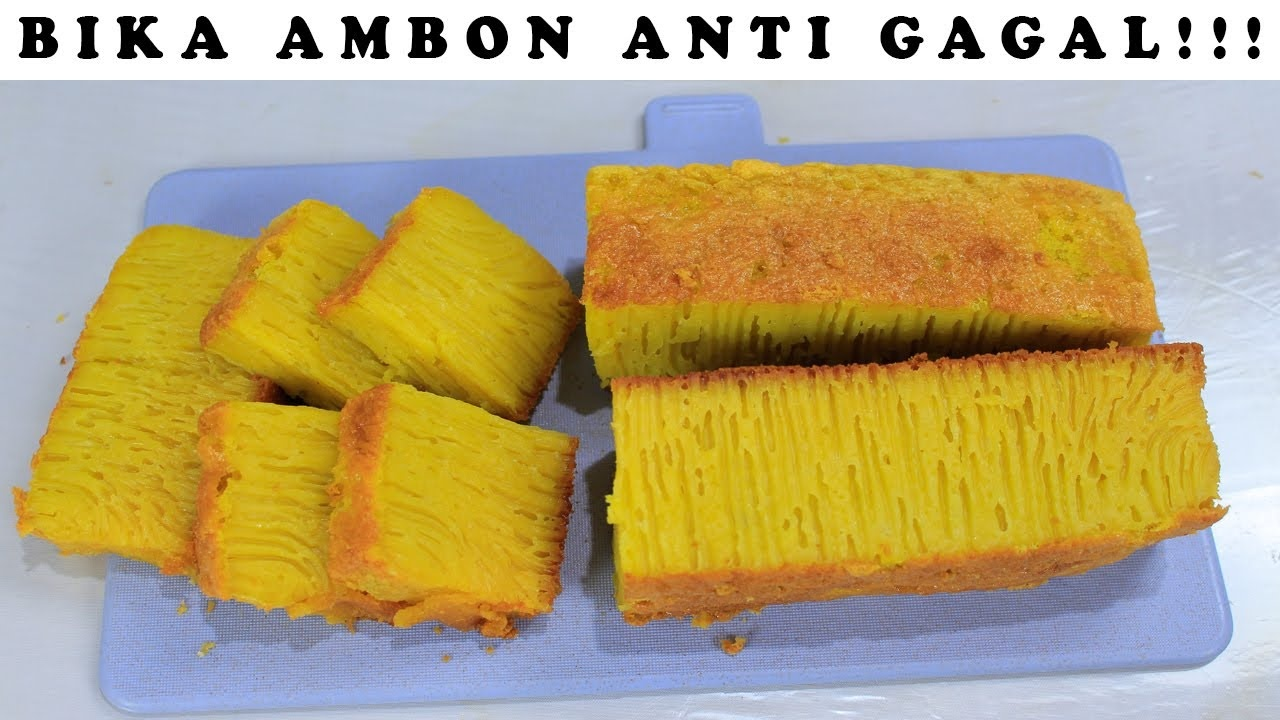bika_ambon: (565, 340, 1239, 580), (353, 382, 587, 618), (334, 188, 565, 416)
